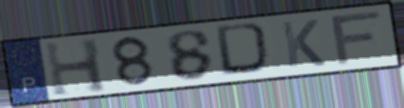8: (163, 28, 216, 82), (109, 34, 157, 89)
D: (213, 21, 277, 78)
F: (328, 8, 385, 68)
H: (42, 36, 111, 99)
K: (279, 18, 328, 69)
